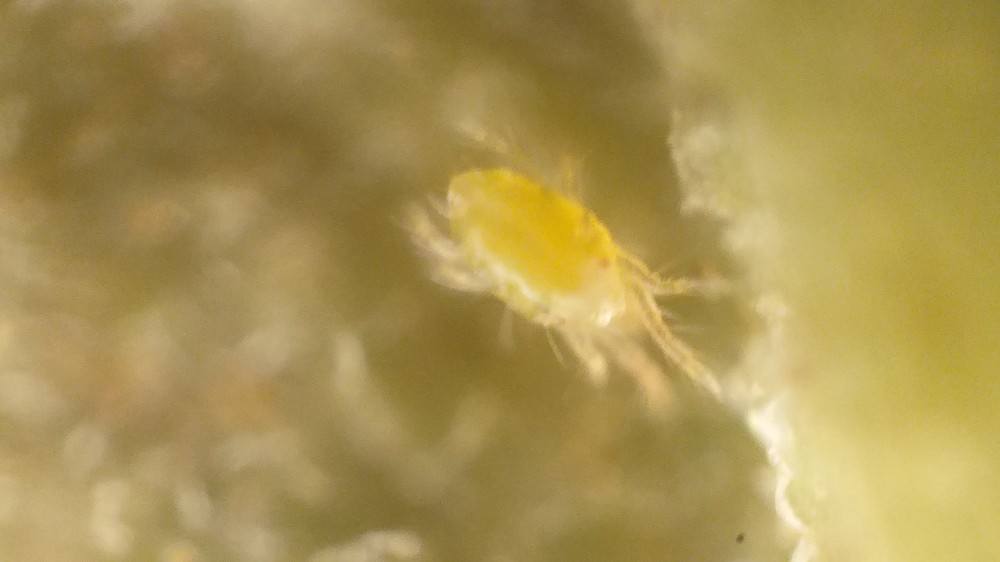Aracnido Rojo: (382, 117, 776, 448)
